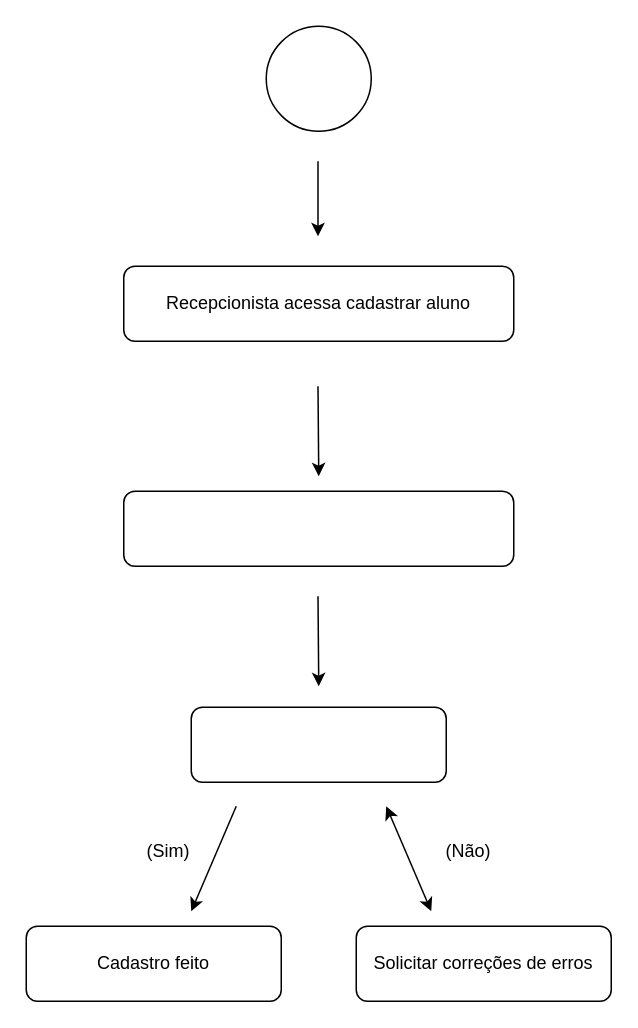
Image size: 638x1028. Some labels were removed from this diagram. Each missing label, with the centre of its shape:
"Dados estão válidos?" belongs at (x=318, y=744).
"Recepcionista preenche os dados do aluno" belongs at (x=318, y=528).
